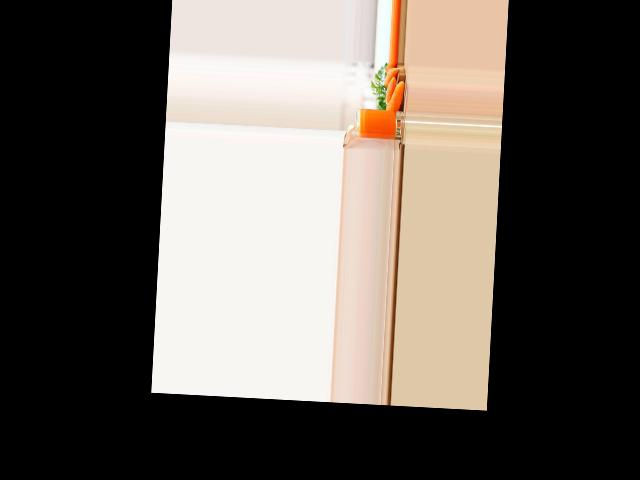carrot: (384, 67, 396, 93)
